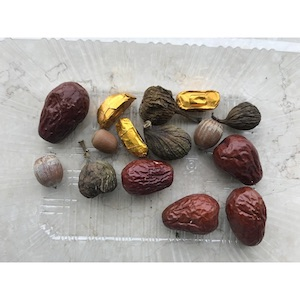date: (34, 77, 92, 146), (208, 133, 270, 187), (222, 185, 270, 249), (158, 191, 223, 237), (120, 154, 177, 194)
fig: (73, 156, 120, 201), (139, 126, 194, 163), (218, 93, 267, 134), (137, 84, 180, 125)
hazelnut: (190, 117, 228, 154), (33, 152, 65, 189), (87, 127, 123, 156)
